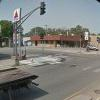Traffic light: (30, 0, 54, 21)
